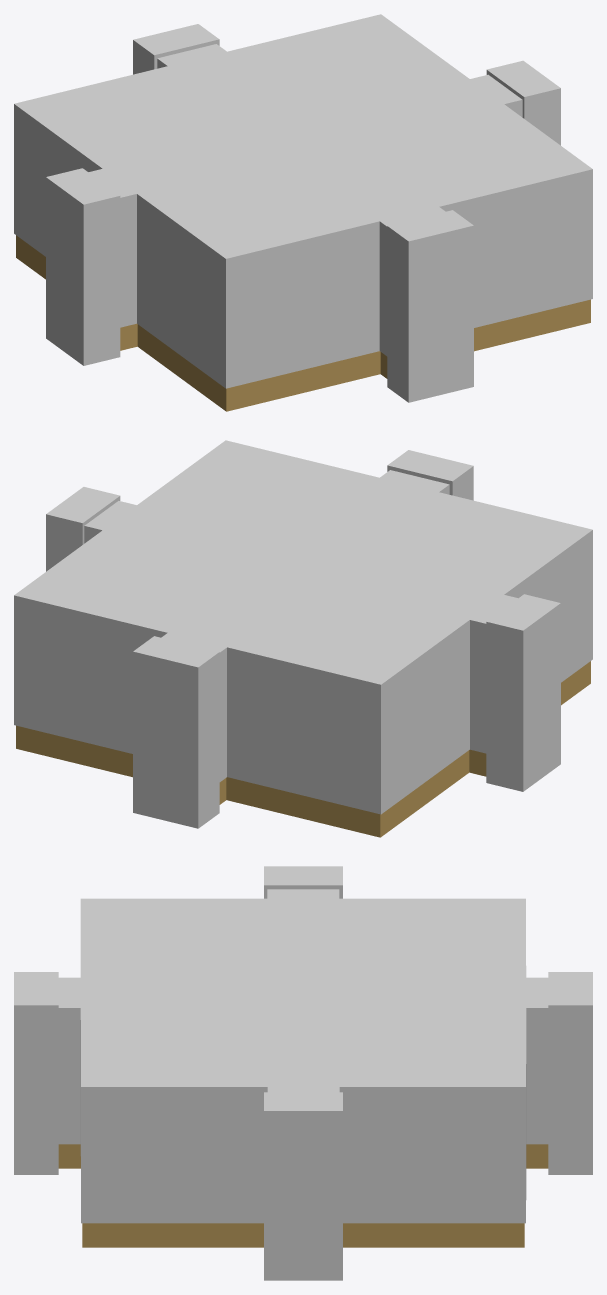
The model's file is gallery_4.glb.
3 renders of one model, top to bottom at view 1: azimuth 30°, elevation 25°; view 2: azimuth 150°, elevation 25°; view 3: azimuth 270°, elevation 25°, orthographic. The views are drawn at different scales.
Parts seen in each view (by area): view 1: Cube.002, trigger.008, trigger.001, trigger.007, trigger.002; view 2: Cube.002, trigger.002, trigger.001, trigger.007, trigger.008; view 3: Cube.002, trigger.007, trigger.002, trigger.008, trigger.001.
Boxes of the visible parts, x1,y1,x2,y2 form: Cube.002: (14,14,592,411); trigger.008: (387,210,473,402); trigger.001: (46,168,120,365); trigger.007: (486,60,560,145); trigger.002: (133,24,219,74); Cube.002: (14,440,592,837); trigger.002: (133,636,219,828); trigger.001: (486,594,560,791); trigger.007: (46,487,120,571); trigger.008: (387,450,473,500); Cube.002: (58,889,548,1247); trigger.007: (264,1092,342,1280); trigger.002: (548,972,592,1174); trigger.008: (14,972,58,1174); trigger.001: (264,866,342,898).
Bounding box in the file's own units: 13 × 4.2 × 13.
